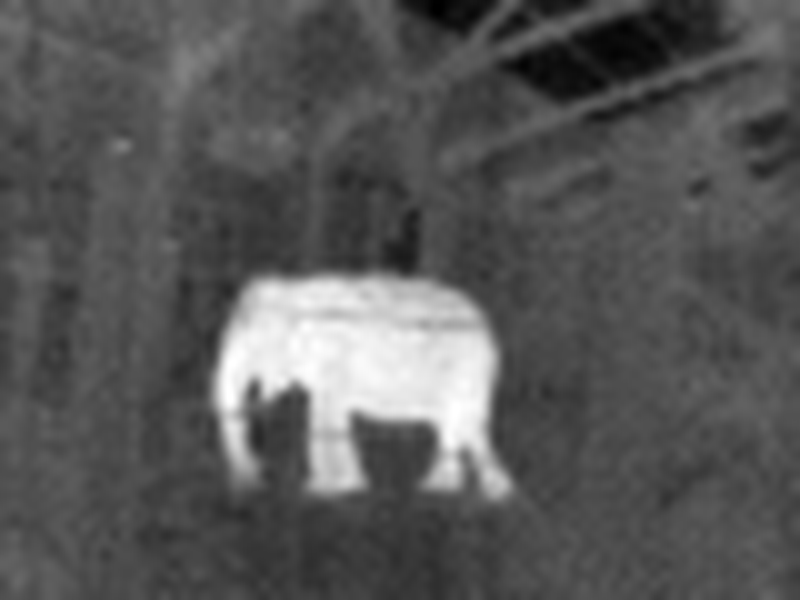elephant: (207, 267, 519, 516)
